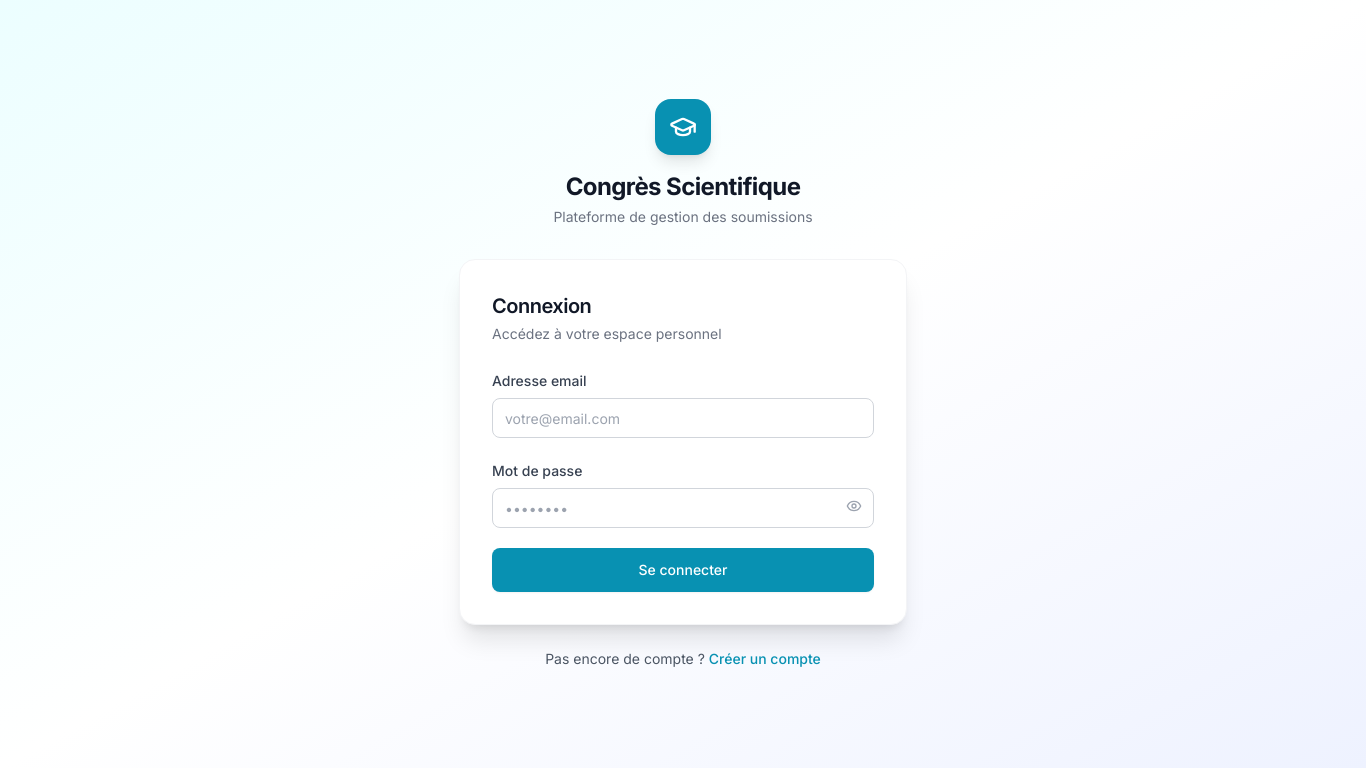
Test: LoginPage › shows email validation error for invalid email
Type "not-an-email" into the field labelled "Adresse email".
click(683, 418); type("not-an-email")  # box [492,398,874,438]
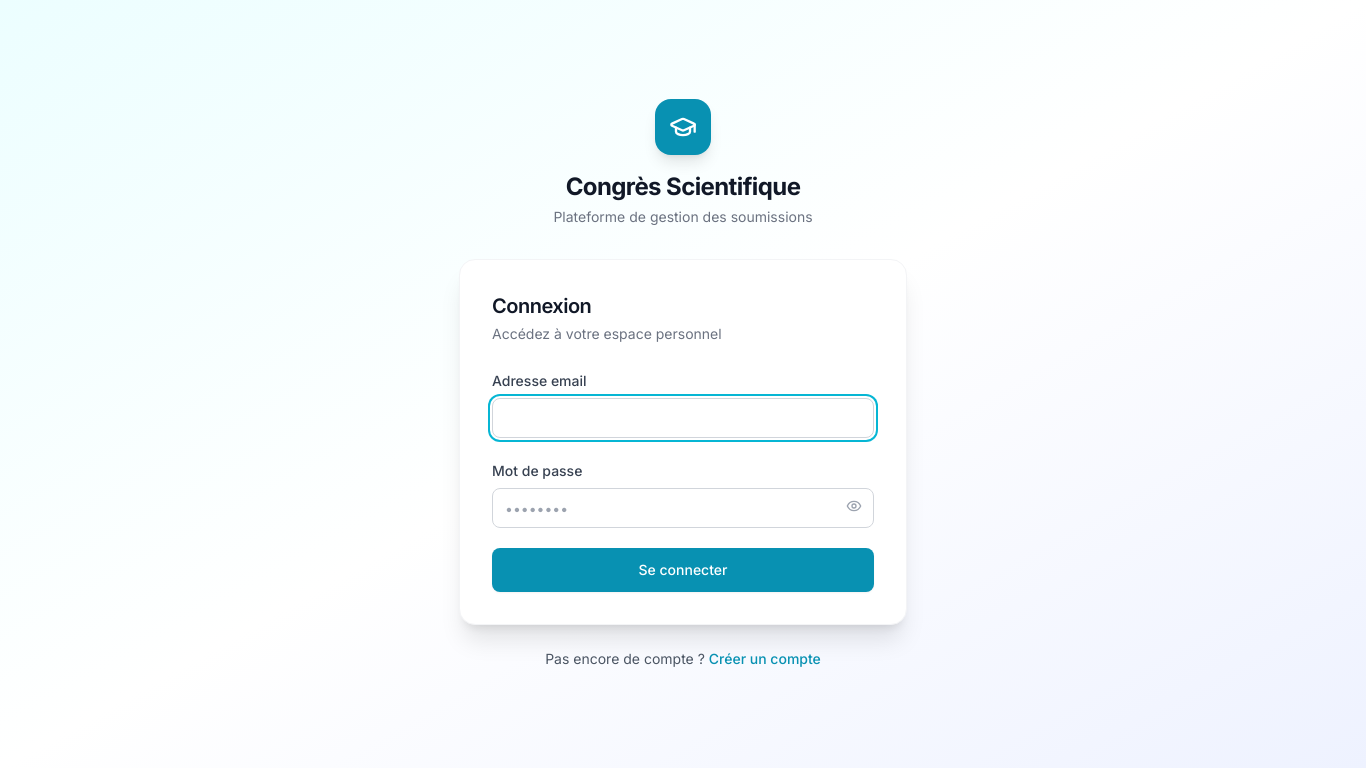
Type "password123" into the password field labelled "Mot de passe".
click(683, 508); type("password123")  # box [492,488,874,528]
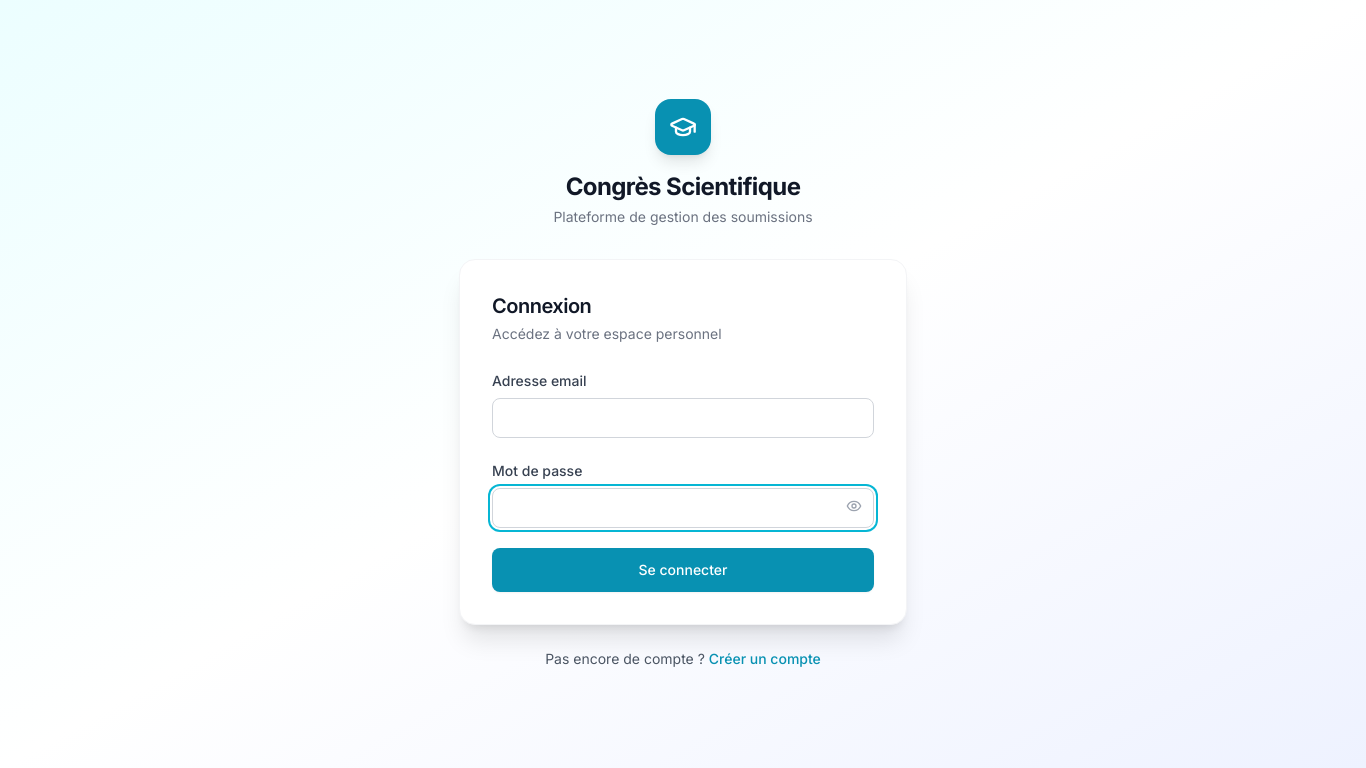
Click the button "Se connecter".
click(683, 570)  # box [492,548,874,592]
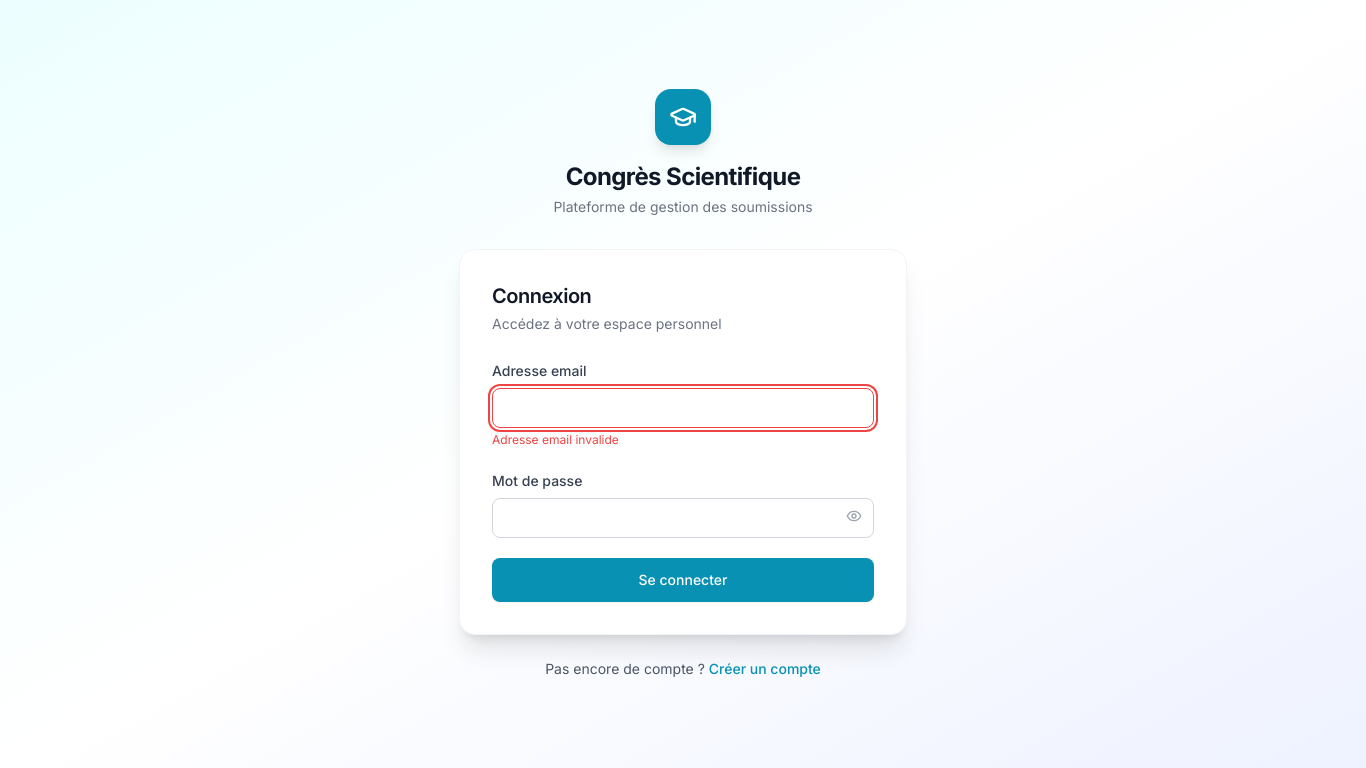
expect the text "Adresse email invalide" is shown: met, box [492,432,619,447]
